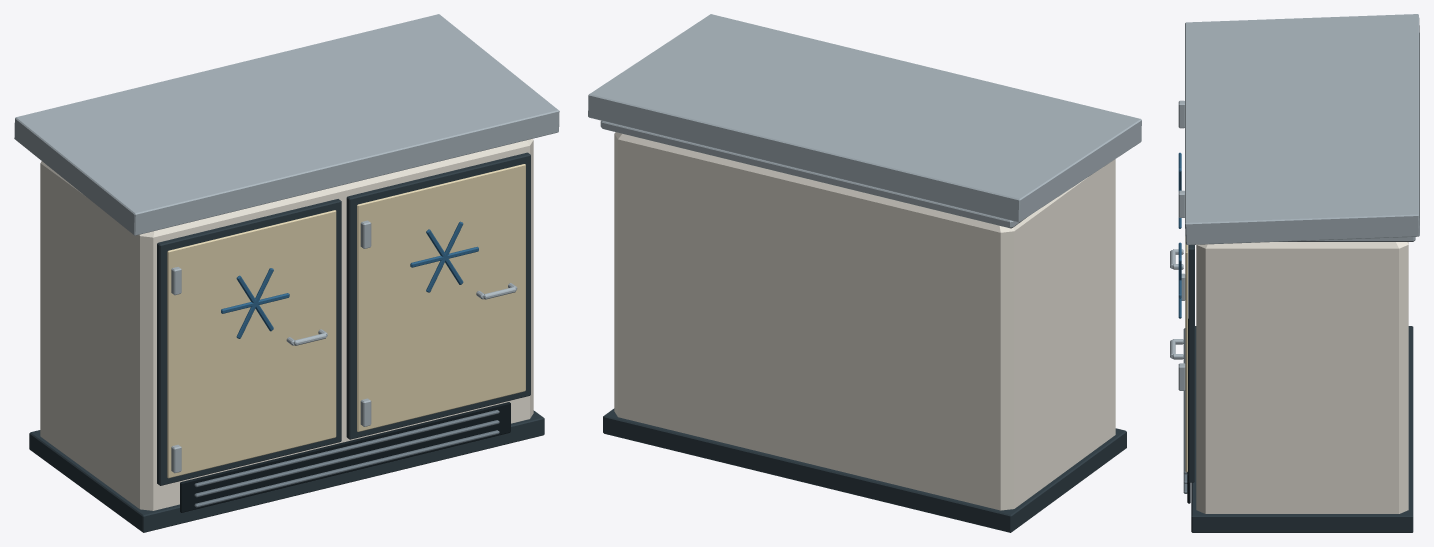
File: b10_outdoor_bagged_ice_chest.glb
The picture shows the model from 3 angles, left to right: view 1: azimuth 30°, elevation 25°; view 2: azimuth 150°, elevation 25°; view 3: azimuth 270°, elevation 25°; orthographic projection. The views are drawn at different scales.
Visible parts, largest first — view 1: b10_outdoor_bagged_ice_chest; view 2: b10_outdoor_bagged_ice_chest; view 3: b10_outdoor_bagged_ice_chest.
Boxes of the visible parts, x1,y1,x2,y2 form: b10_outdoor_bagged_ice_chest: (14,14,559,532); b10_outdoor_bagged_ice_chest: (588,14,1141,532); b10_outdoor_bagged_ice_chest: (1170,14,1419,532).
Bounding box in the file's own units: 1.75 × 1.31 × 0.9173.
